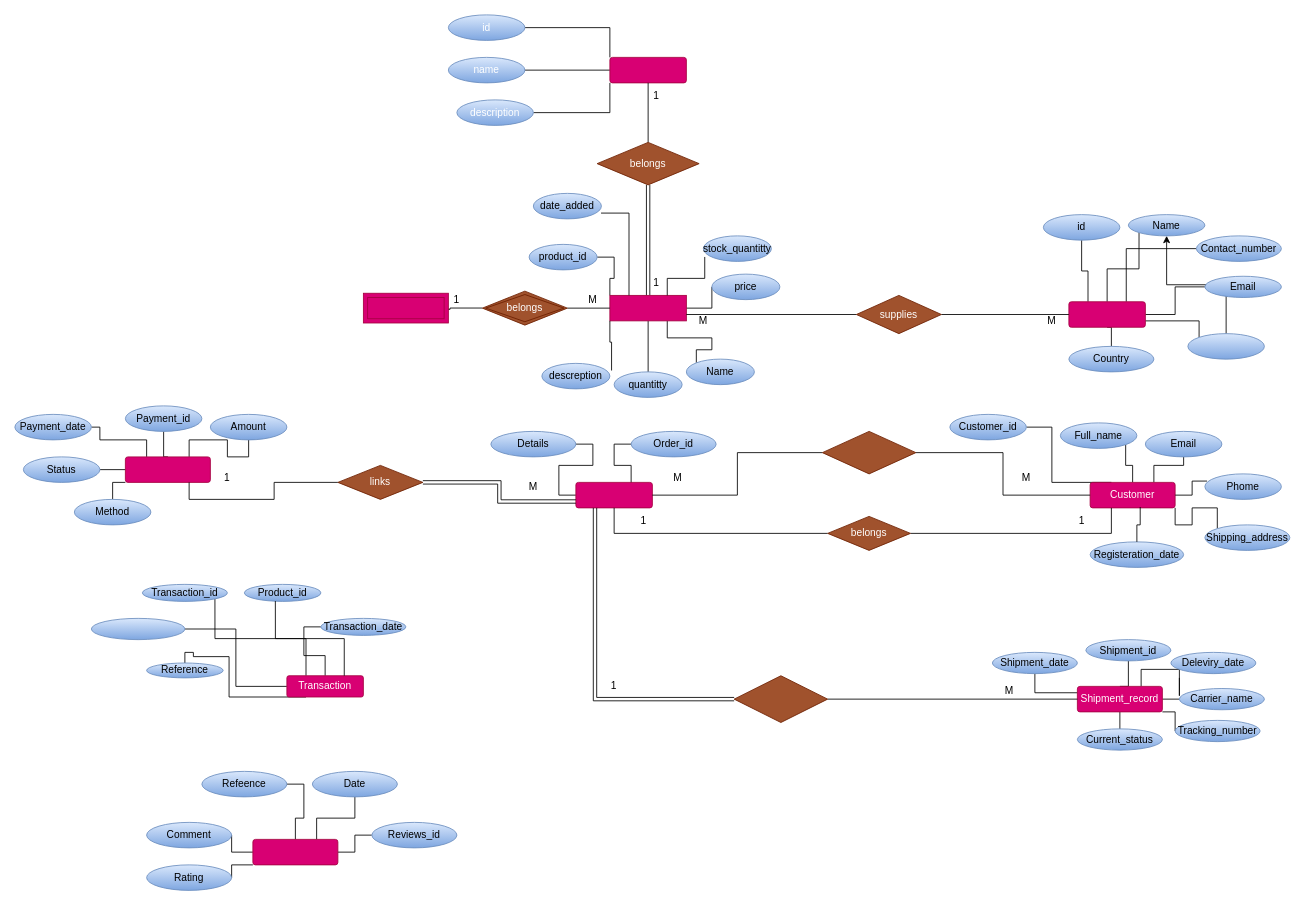
Image size: 1305x905. Some labels were removed from this diagram. The centre of each missing label's shape, as x and y in pixels:
Addrees: point (1225, 346)
Catogeries: point (647, 70)
has: point (780, 698)
Orders: point (613, 495)
payment: point (167, 469)
place: point (869, 452)
products: point (647, 308)
Quantity_changes: point (138, 629)
Reviews: point (295, 852)
subcatogries: point (405, 307)
supplier: point (1106, 314)
